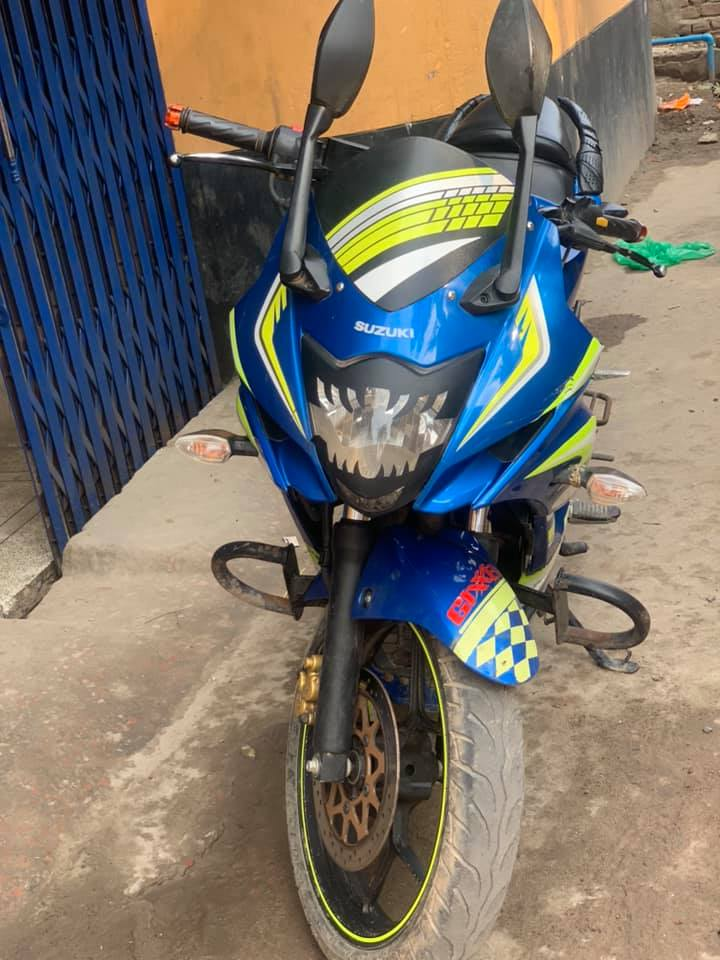bike: (164, 1, 670, 960)
